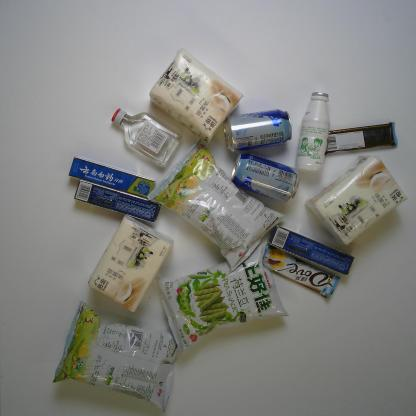Alcohol: (112, 104, 180, 166), (233, 152, 298, 199), (226, 110, 292, 150)
Chocolate: (263, 242, 340, 300), (322, 123, 396, 152)
Milk: (298, 95, 328, 170)
Personal Hygiene: (272, 219, 354, 274), (71, 179, 161, 224), (68, 158, 157, 201)
Puffed Food: (152, 136, 286, 272), (162, 246, 284, 357), (51, 308, 182, 411)
Tissue: (309, 154, 409, 247), (151, 46, 241, 143), (85, 217, 170, 313)
